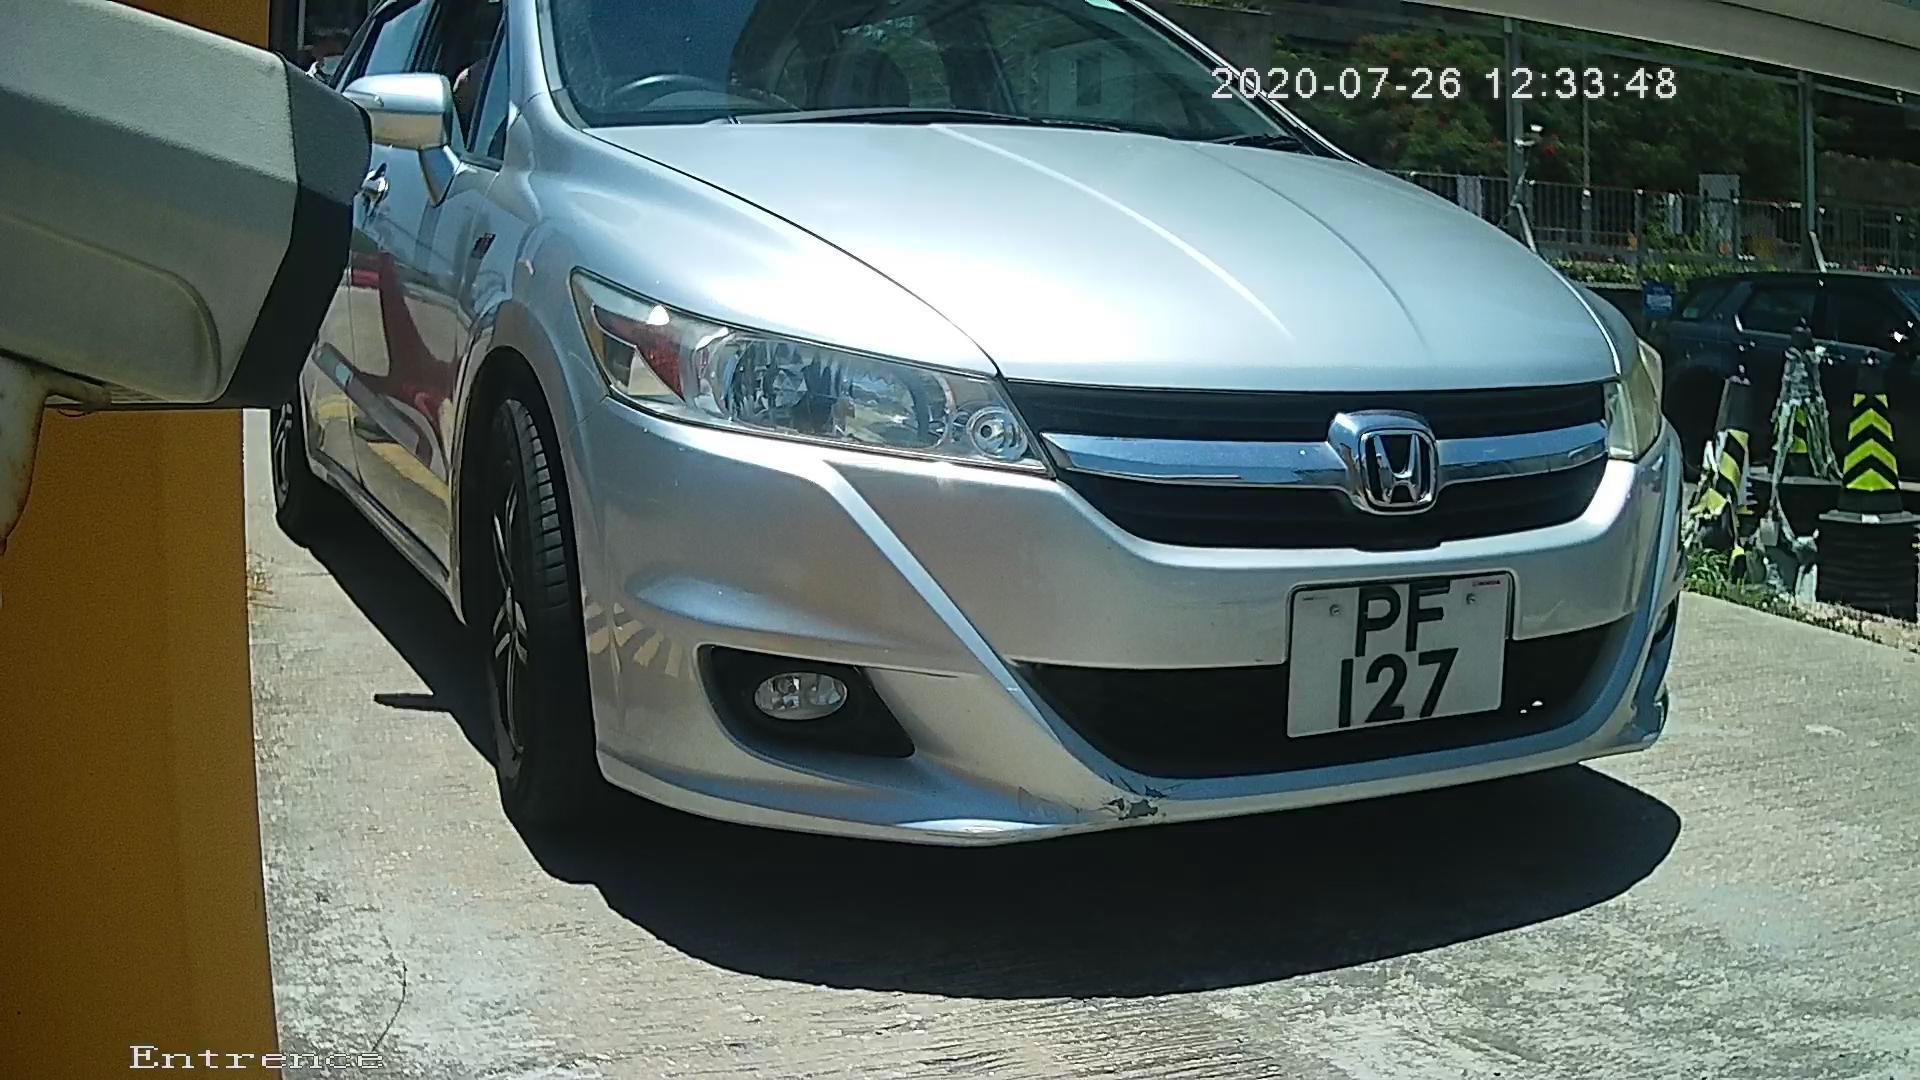privatecar: (223, 15, 1766, 945)
